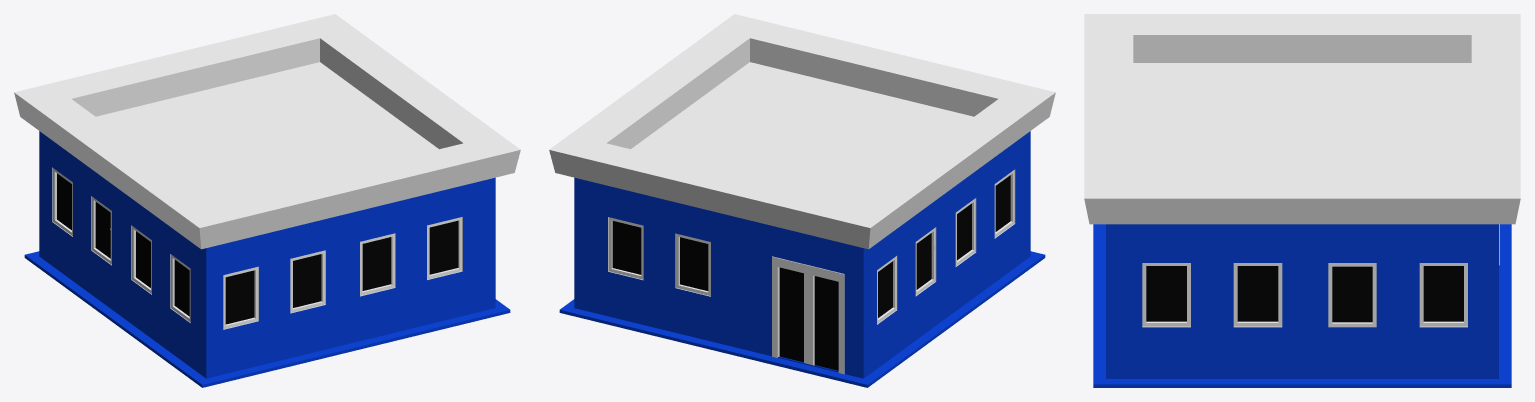
Rendered from house5.fbx.
3 renders of one model, left to right at view 1: azimuth 30°, elevation 25°; view 2: azimuth 150°, elevation 25°; view 3: azimuth 270°, elevation 25°, orthographic. The views are drawn at different scales.
Parts seen in each view (by area): view 1: house5; view 2: house5; view 3: house5.
Boxes of the visible parts, x1=… form: house5: x1=14, y1=14, x2=520, y2=387; house5: x1=549, y1=14, x2=1055, y2=387; house5: x1=1084, y1=14, x2=1520, y2=387.
Size of the model in its own units: 703 by 343 by 703.
